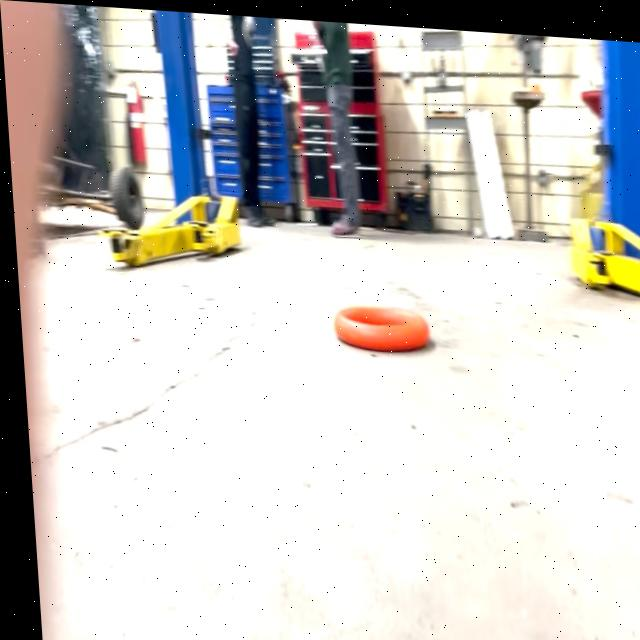note: (327, 296, 431, 351)
